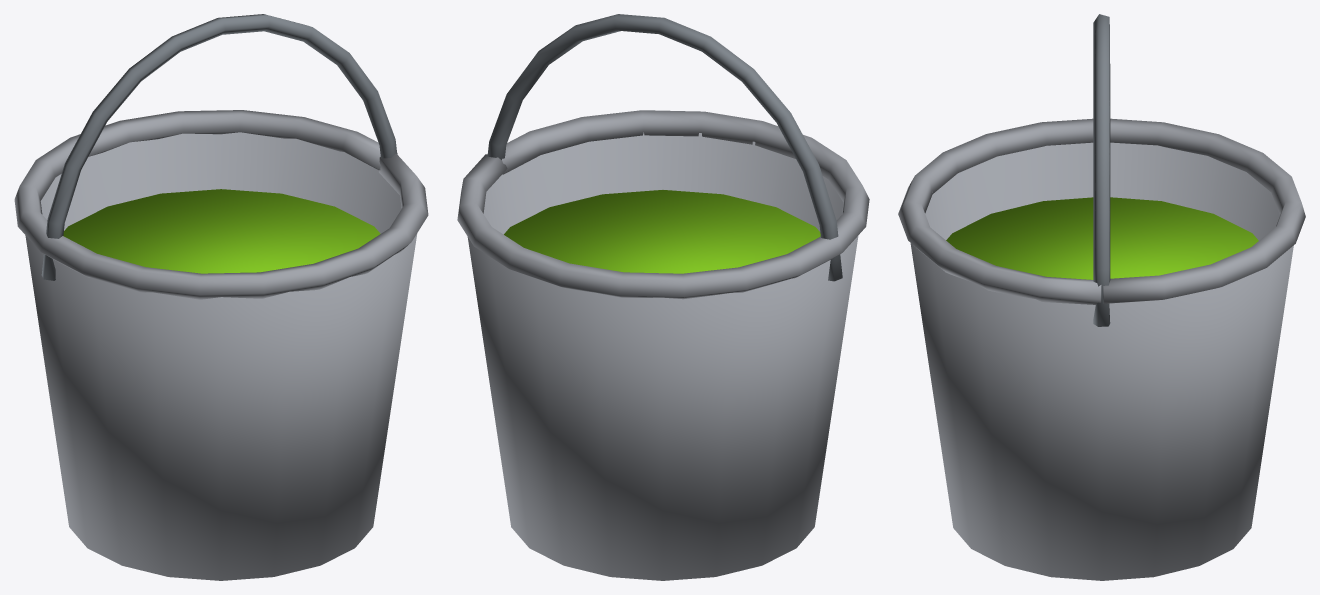
Rendered from lime_paint.glb.
3 views of the same model, side by side, from view 1: azimuth 30°, elevation 25°; view 2: azimuth 150°, elevation 25°; view 3: azimuth 270°, elevation 25° (orthographic).
Parts seen in each view (by area): view 1: lime_paint_v0; view 2: lime_paint_v0; view 3: lime_paint_v0.
Part boxes in pixels (x1,y1,x2,y2): lime_paint_v0: [14, 14, 428, 580]; lime_paint_v0: [457, 14, 869, 580]; lime_paint_v0: [898, 14, 1305, 580].
Size of the model in its own units: 0.2696 by 0.3556 by 0.2693.
